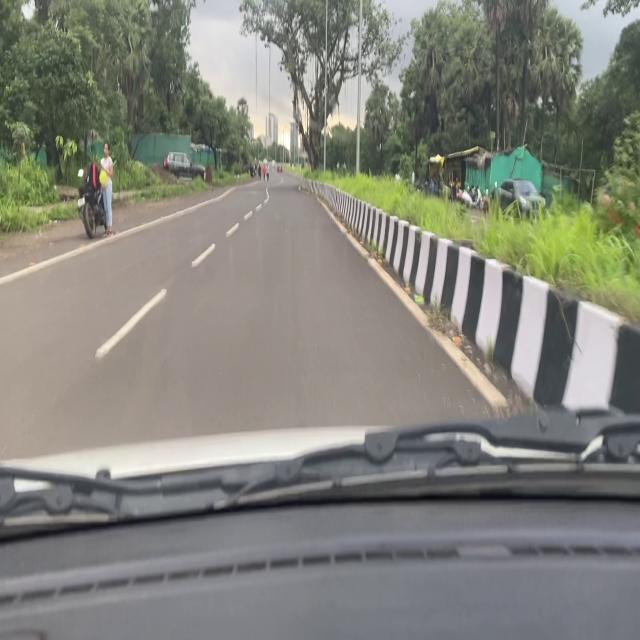lane: (1, 191, 275, 465), (303, 182, 520, 422), (1, 180, 244, 287)
